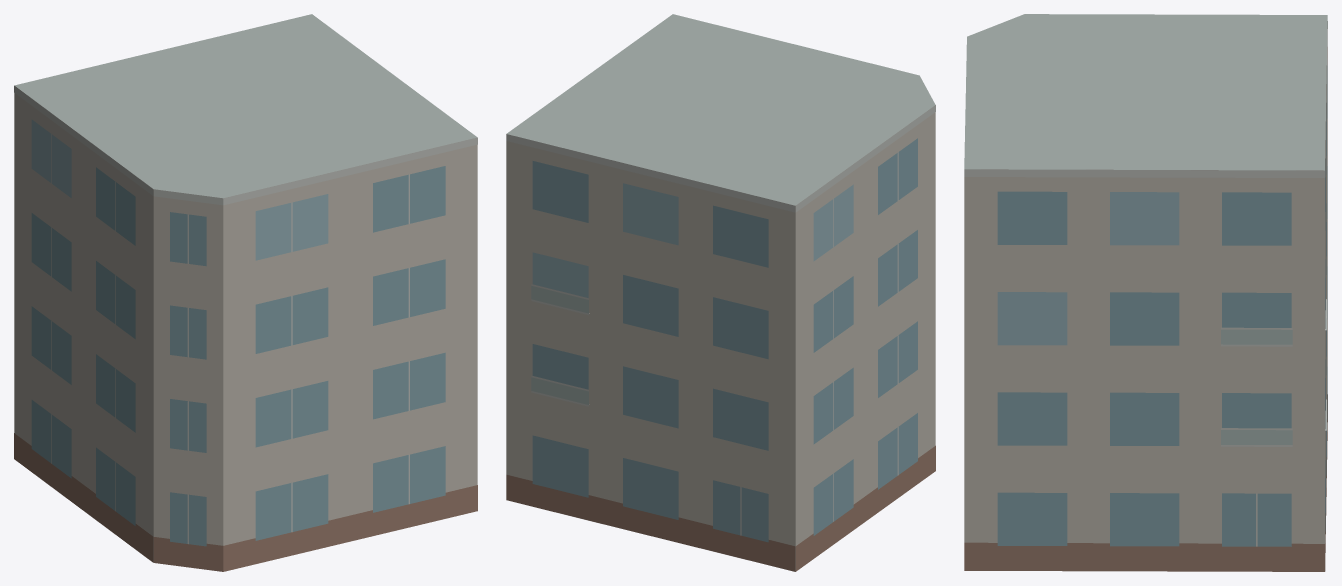
Rendered from survey-upis-33010672.glb.
The picture shows the model from 3 angles, left to right: view 1: azimuth 30°, elevation 25°; view 2: azimuth 150°, elevation 25°; view 3: azimuth 270°, elevation 25°; orthographic projection. The views are drawn at different scales.
Parts seen in each view (by area): view 1: survey-upis-33010672.tmp; view 2: survey-upis-33010672.tmp; view 3: survey-upis-33010672.tmp.
Part boxes in pixels (box(x1,y1,x2,y2)): survey-upis-33010672.tmp: box(14, 14, 477, 571); survey-upis-33010672.tmp: box(506, 14, 935, 571); survey-upis-33010672.tmp: box(964, 14, 1327, 571).
Bounding box in the file's own units: 10.74 × 12.8 × 10.52.
